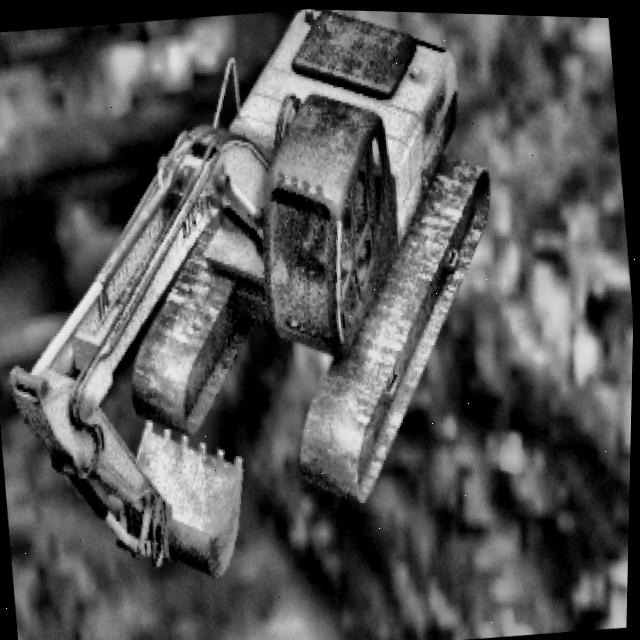excavator: (0, 0, 530, 600)
